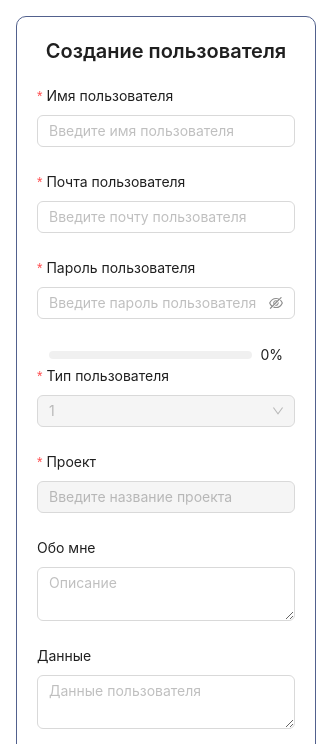
UserForm › validates required fields
Type "John" into the field labelled "Имя пользователя" at (158, 131), box [49,120,267,142]
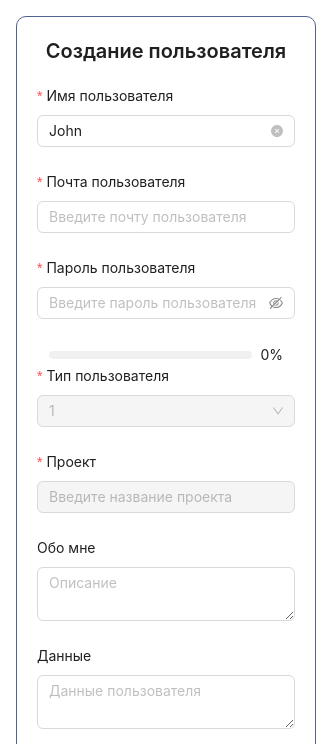
Clear the field labelled "Имя пользователя" at (158, 131), box [49,120,267,142]
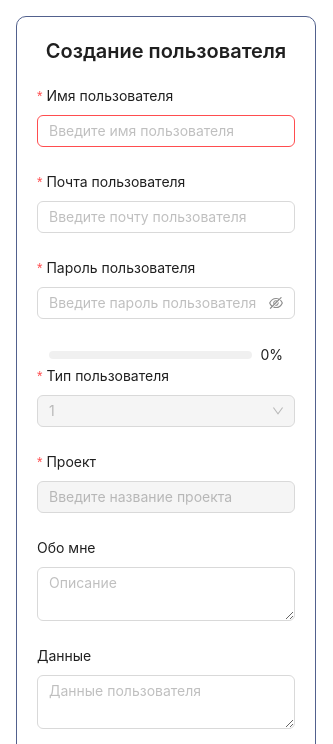
Type "Email" into the field labelled "Почта пользователя" at (154, 217), box [49,206,259,228]
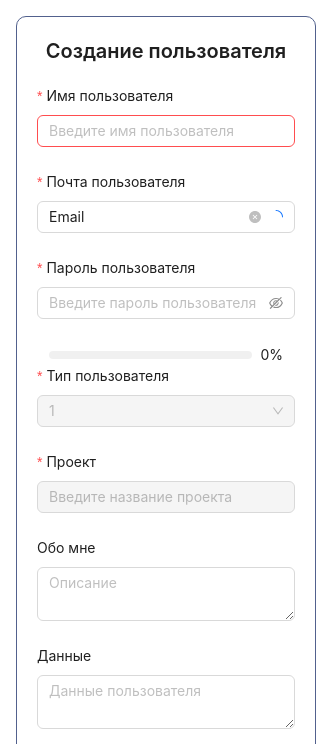
Clear the field labelled "Почта пользователя" at (145, 217), box [49,206,241,228]
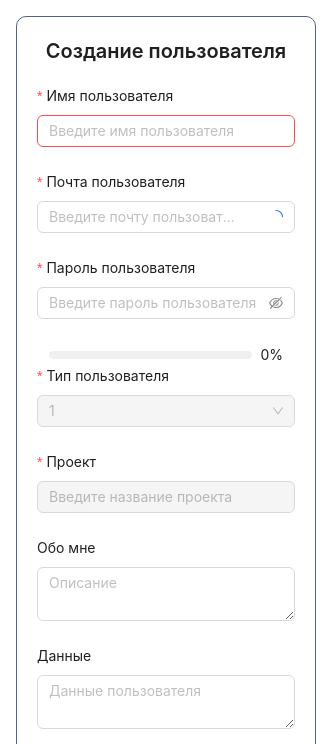
Type "Pass123" into the password field labelled "Пароль пользователя" at (157, 303), box [49,292,265,314]
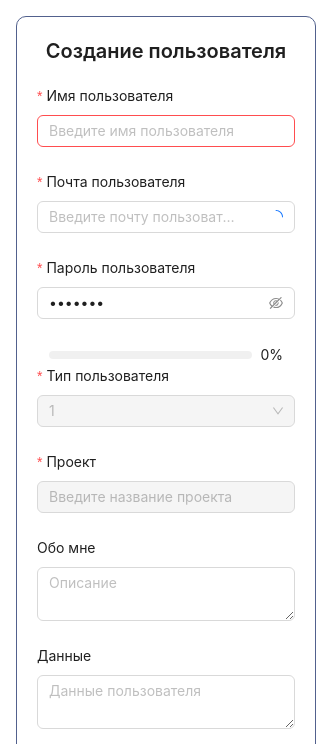
Clear the password field labelled "Пароль пользователя" at (157, 303), box [49,292,265,314]
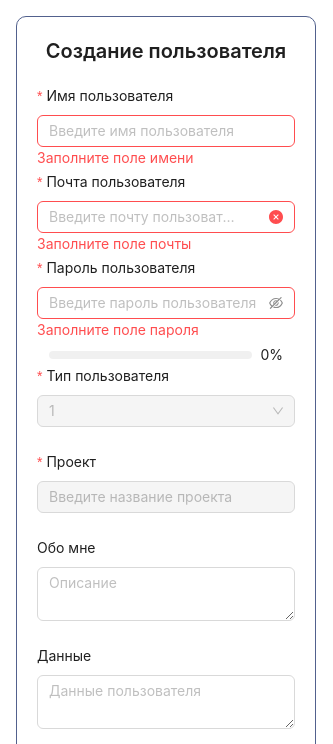
Result: the text "Заполните поле имени" is shown at [37,149,194,166]
Result: the text "Заполните поле почты" is shown at [37,235,191,252]
Result: the text "Заполните поле пароля" is shown at [37,321,199,338]
